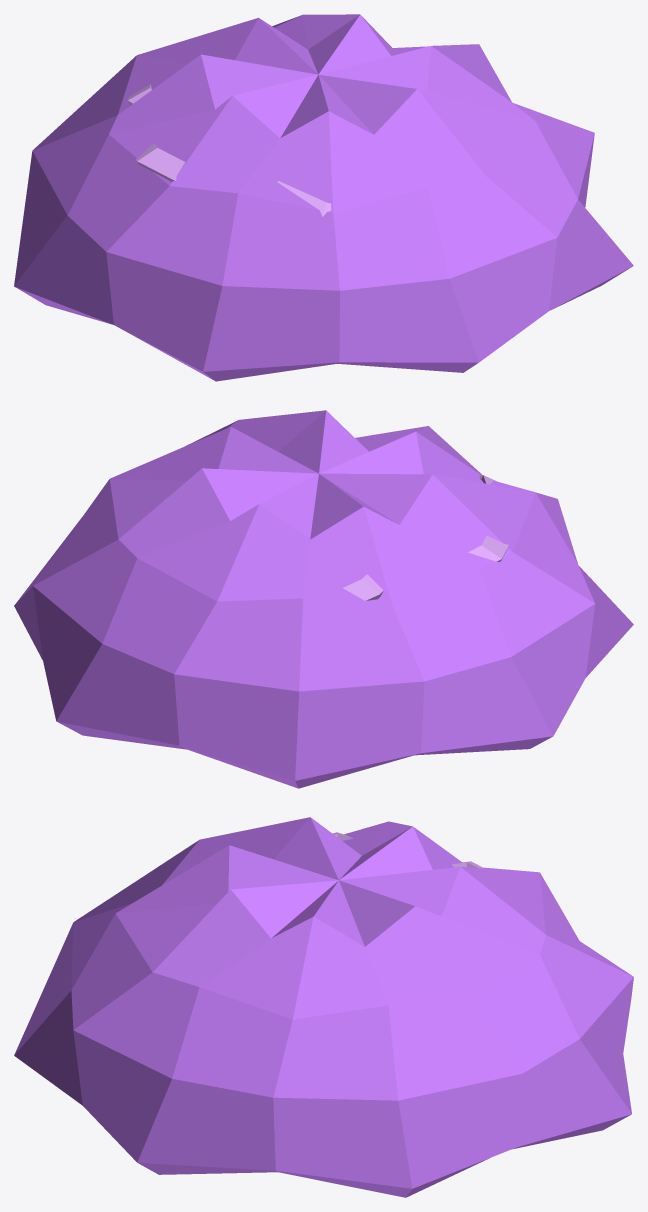
Rendered from coral-brain.glb.
3 renders of one model, top to bottom at view 1: azimuth 30°, elevation 25°; view 2: azimuth 150°, elevation 25°; view 3: azimuth 270°, elevation 25°, orthographic.
Parts seen in each view (by area): view 1: coral-brain; view 2: coral-brain; view 3: coral-brain.
Part boxes in pixels (x1,y1,x2,y2): coral-brain: [14, 14, 633, 381]; coral-brain: [14, 410, 633, 788]; coral-brain: [14, 817, 633, 1197].
Size of the model in its own units: 1.56 by 0.6154 by 1.53.
